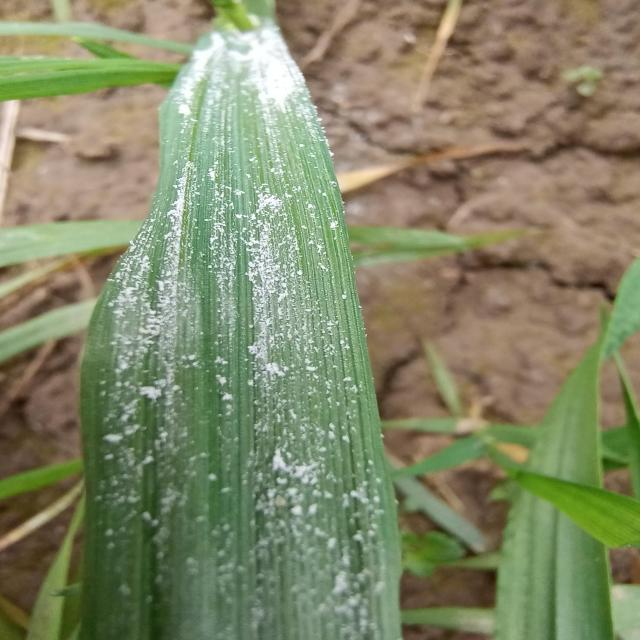Powdery Mildew: (156, 78, 362, 640)
